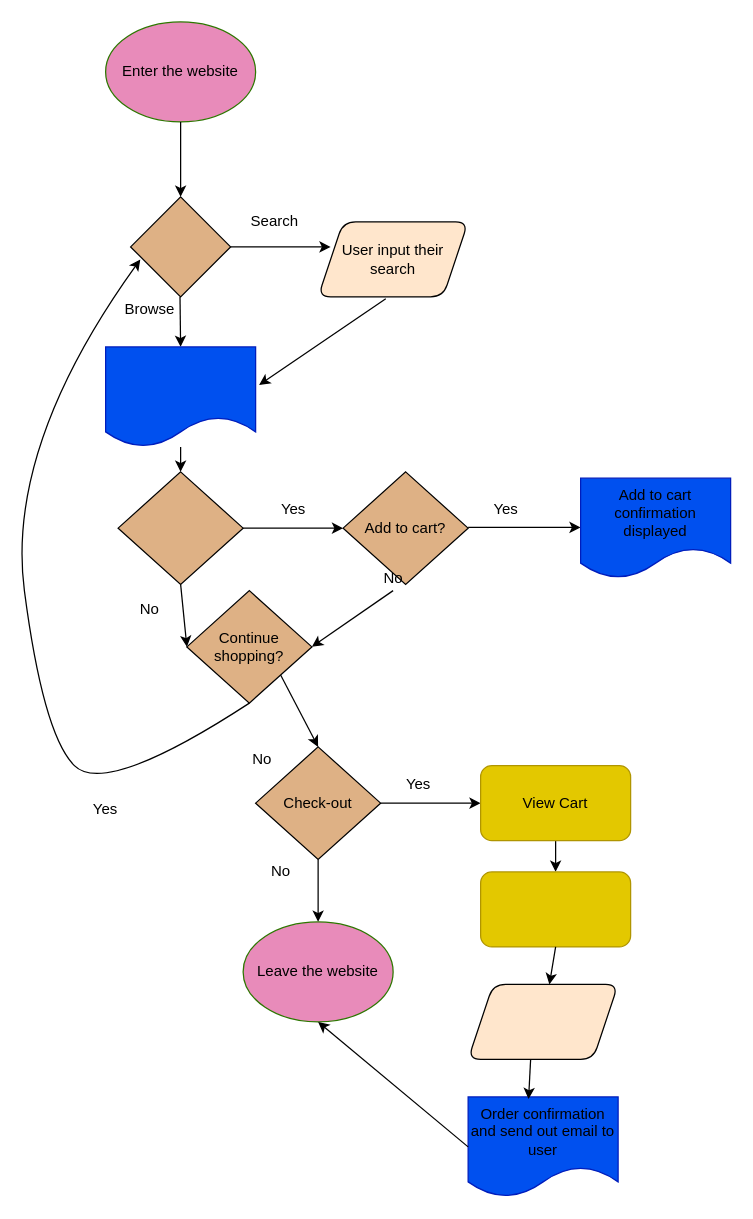
This 753x1219 diagram has some shape labels left out. Each missing label, with the box of its shape:
Products presented to users to browse: (104, 346, 256, 447)
User input their Payment info: (467, 983, 618, 1059)
User's Action: (129, 196, 231, 297)
View Payment: (479, 871, 631, 947)
View the specfic product ?: (117, 471, 243, 584)
